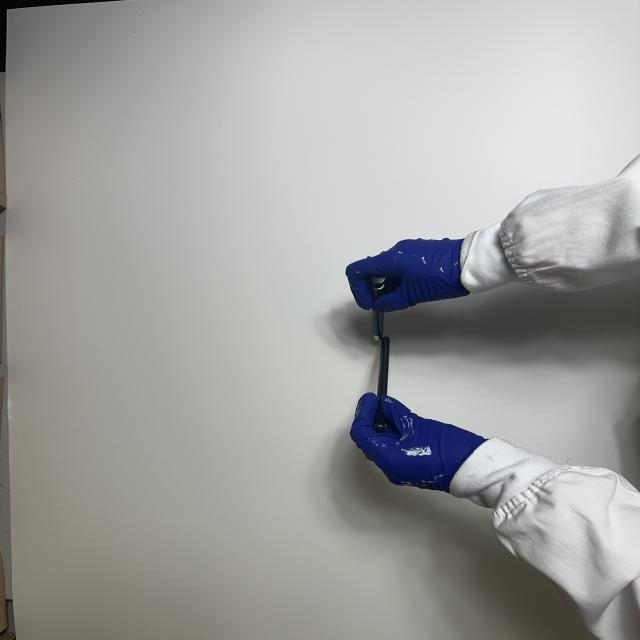gloves_contaminated: (350, 393, 486, 492), (346, 238, 468, 312)
